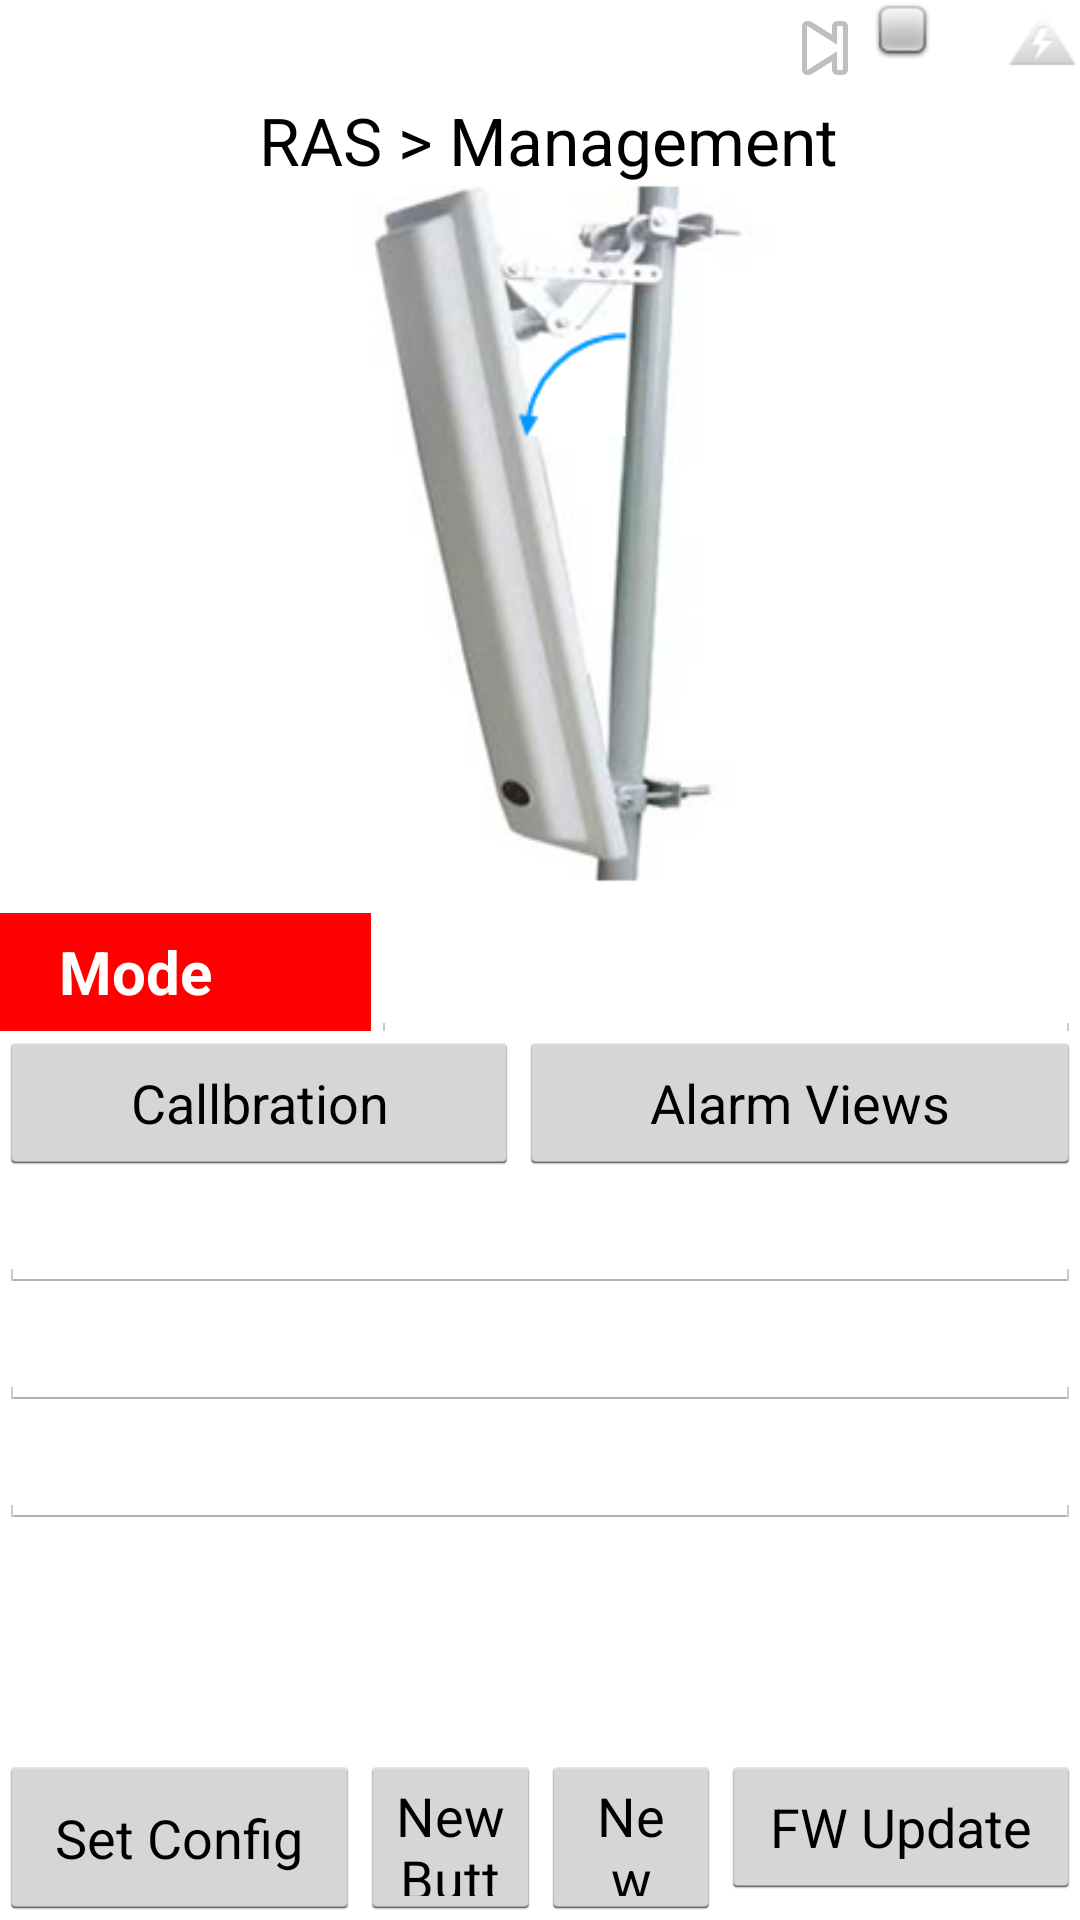

Named icons in this screenshot (1080px x 1920px) and their bounding boxes, (x1, y1, x2, y2):
lock idle low battery: (1010, 27, 1075, 65)
next: (802, 21, 848, 75)
